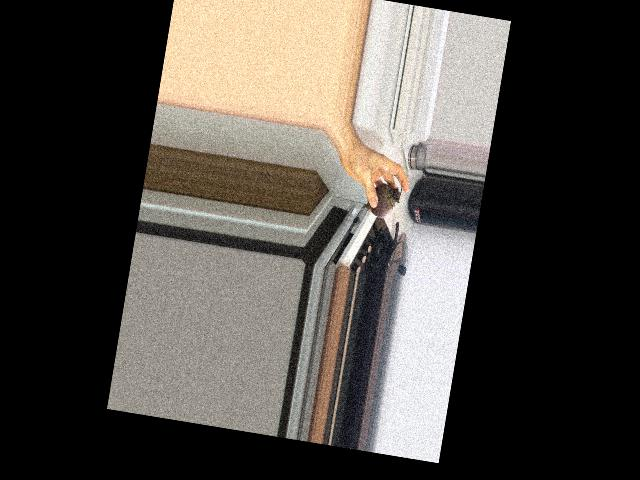beet: (359, 171, 403, 220)
